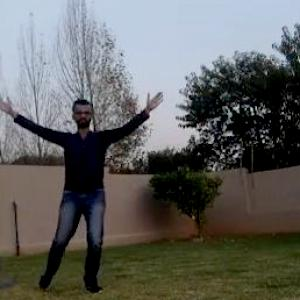takeoff: (1, 92, 164, 296)
